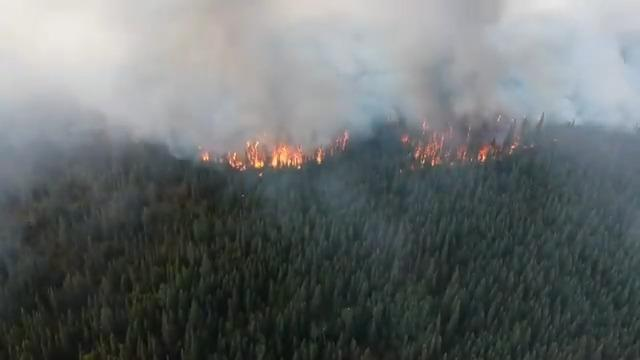fire: (404, 118, 537, 173), (225, 131, 360, 173)
smoke: (0, 3, 636, 137)
